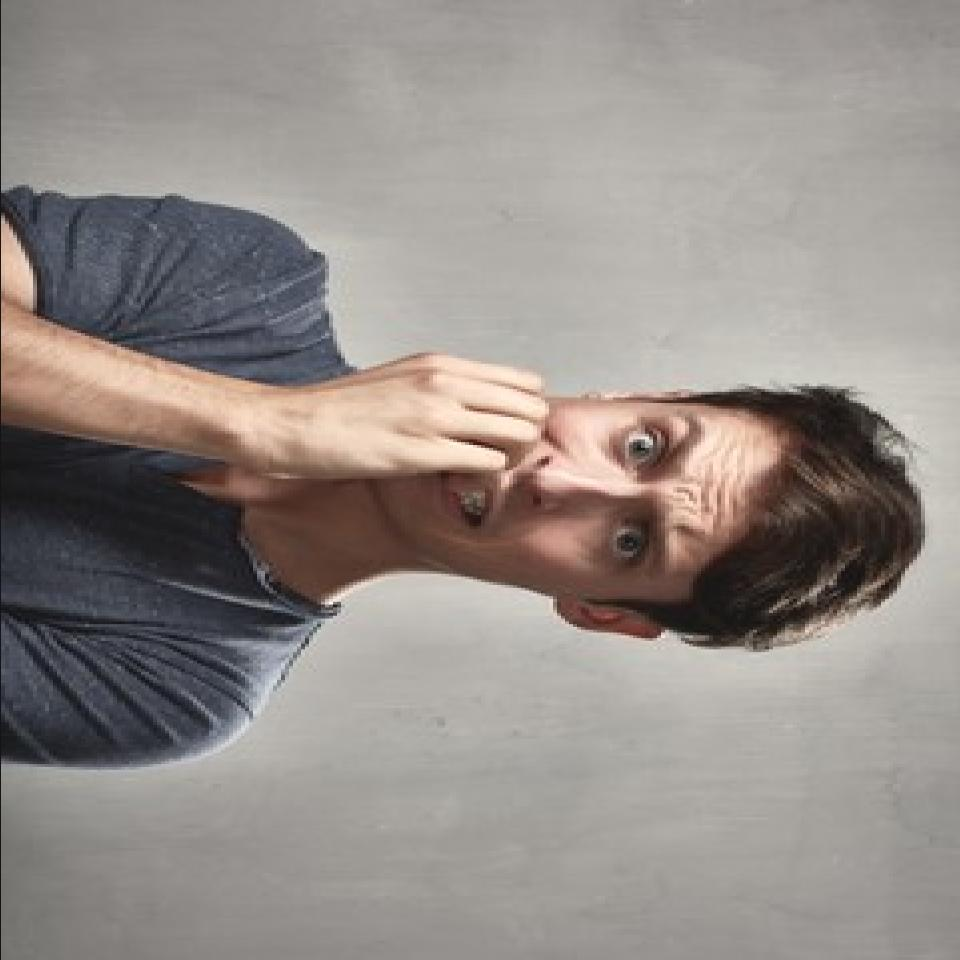Scared: (291, 350, 764, 600)
